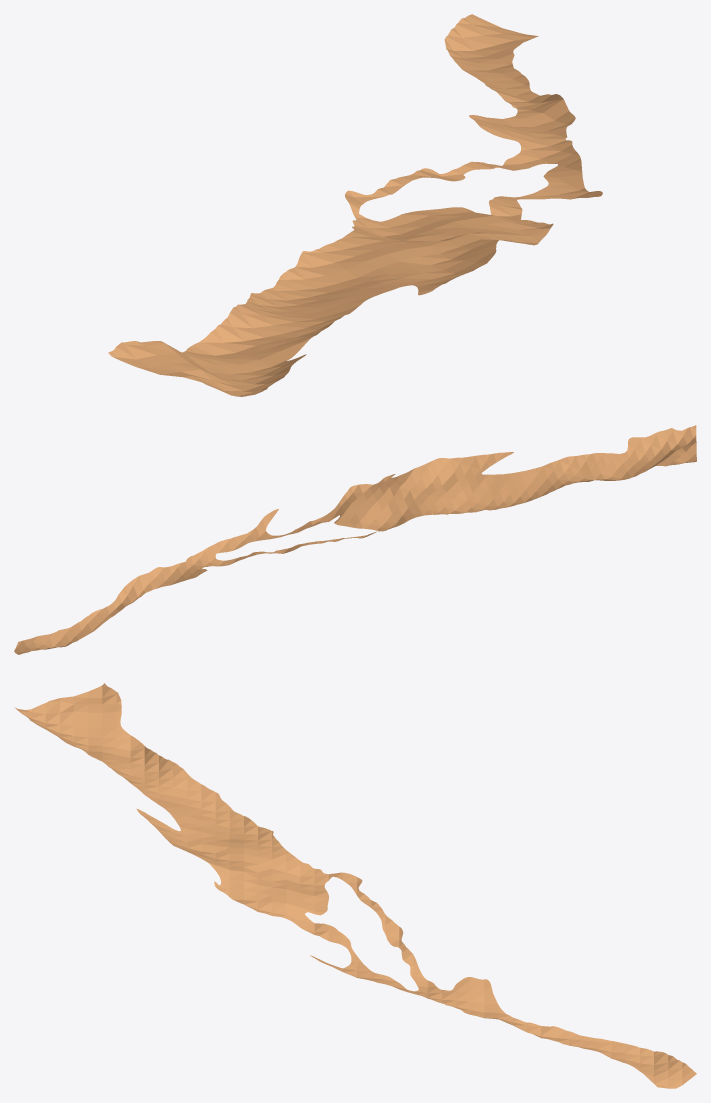
File: 1_Quaternary Alluvium (-1).dae
3 renders of one model, top to bottom at view 1: azimuth 30°, elevation 25°; view 2: azimuth 150°, elevation 25°; view 3: azimuth 270°, elevation 25°, orthographic. The views are drawn at different scales.
Parts seen in each view (by area): view 1: Object; view 2: Object; view 3: Object.
Boxes of the visible parts, <box> form: Object: <box>108,14,602,396</box>; Object: <box>14,425,696,654</box>; Object: <box>14,683,696,1088</box>.
Size of the model in its own units: 37.6 by 9.88 by 41.65.
